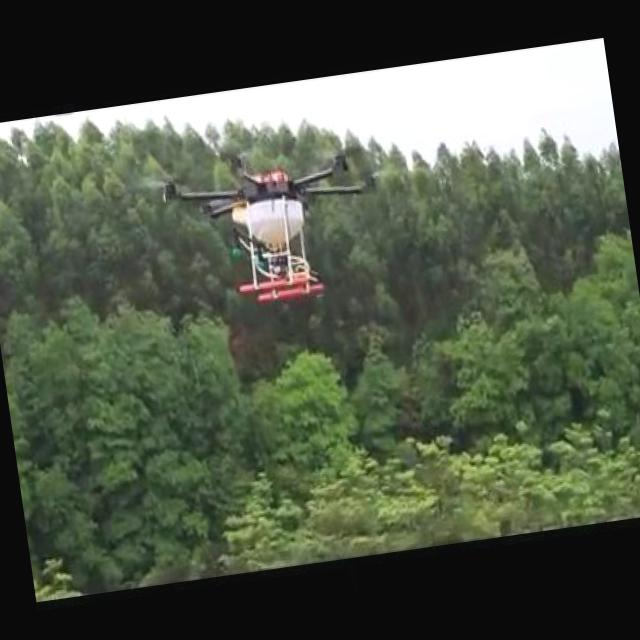drone: (157, 130, 397, 316)
